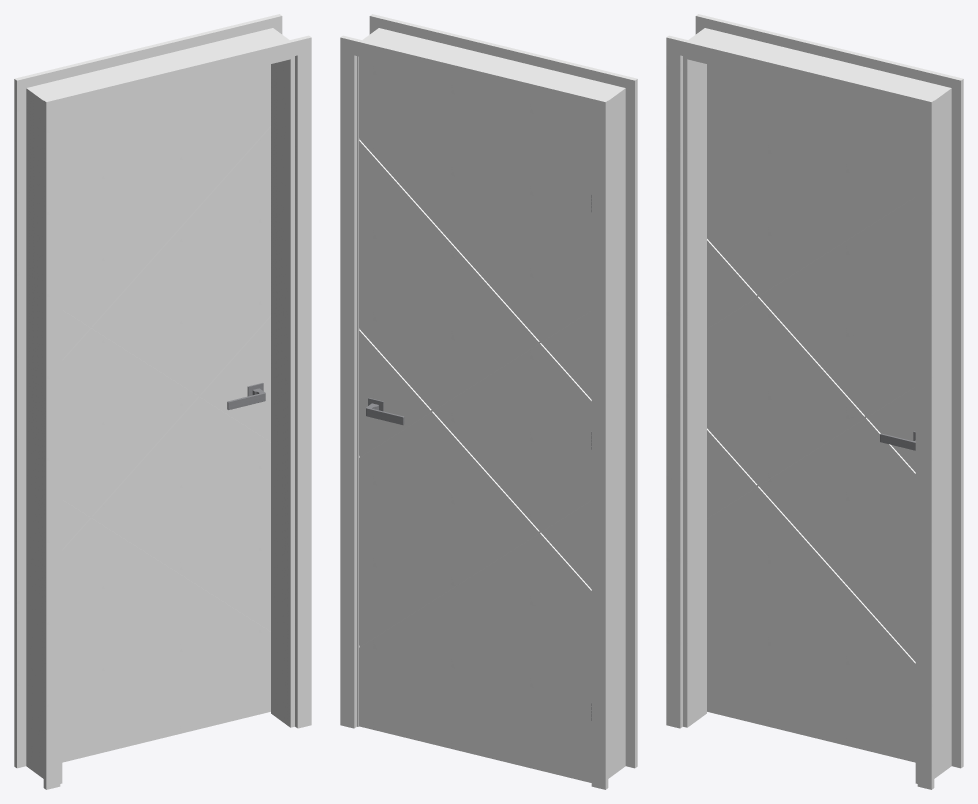
The model's file is 001_Esanos-Maderas.glb.
3 views of the same model, side by side, from view 1: azimuth 30°, elevation 25°; view 2: azimuth 150°, elevation 25°; view 3: azimuth 330°, elevation 25° (orthographic).
Visible parts, largest first — view 1: root; view 2: root; view 3: root.
Part boxes in pixels (x1,y1,x2,y2): root: [14, 14, 311, 789]; root: [340, 14, 637, 789]; root: [666, 14, 963, 789].
Bounding box in the file's own units: 0.86 × 2.13 × 0.2055.
2 materials, 2 textured.
